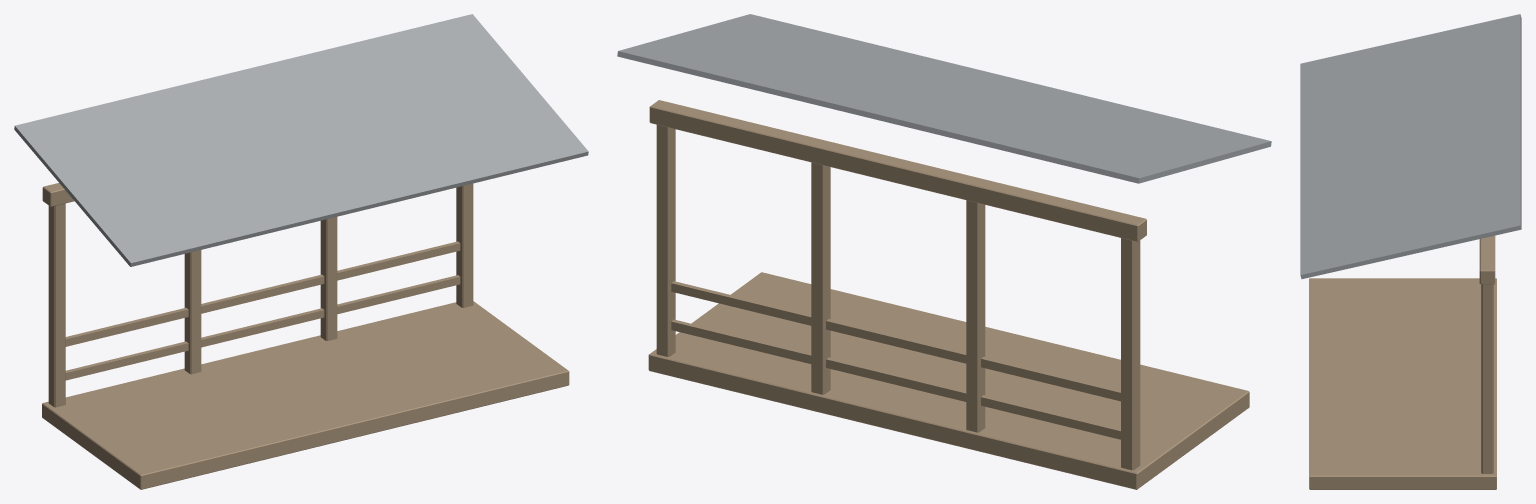
The model's file is mk_porch_6m.glb.
3 renders of one model, left to right at view 1: azimuth 30°, elevation 25°; view 2: azimuth 150°, elevation 25°; view 3: azimuth 270°, elevation 25°, orthographic. The views are drawn at different scales.
Visible parts, largest first — view 1: mk_porch_6m_mesh; view 2: mk_porch_6m_mesh; view 3: mk_porch_6m_mesh.
Boxes of the visible parts, bbox=[...] form: mk_porch_6m_mesh: bbox=[14, 14, 588, 489]; mk_porch_6m_mesh: bbox=[617, 14, 1271, 489]; mk_porch_6m_mesh: bbox=[1300, 14, 1521, 489].
Bounding box in the file's own units: 6.4 × 3.83 × 2.83.
